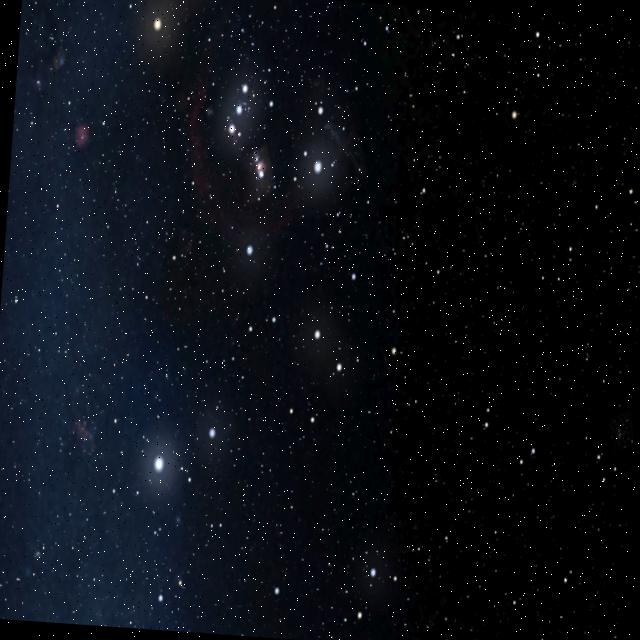Lepus: (226, 200, 407, 430)
